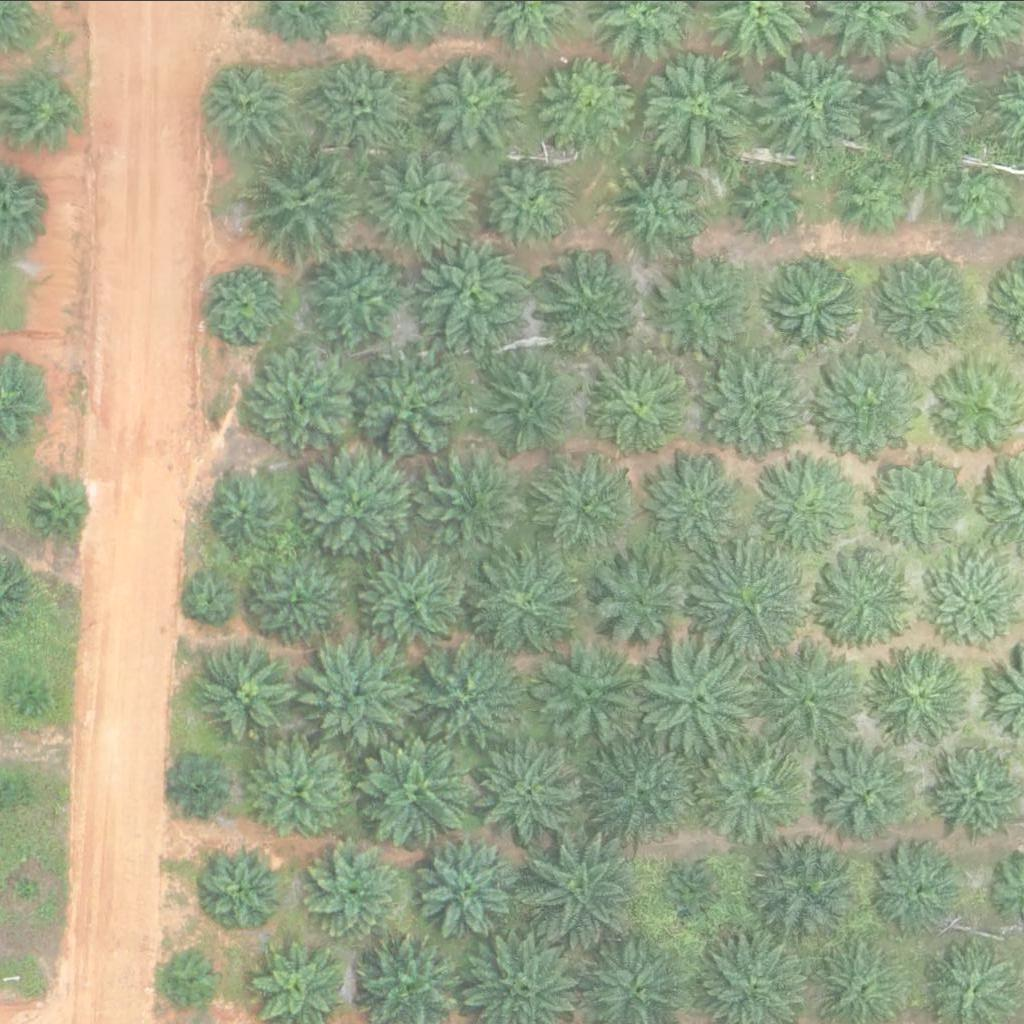Kelapa_Sawit: (522, 824, 648, 949), (353, 723, 479, 848), (582, 727, 708, 852), (402, 640, 528, 765), (633, 630, 759, 755), (464, 535, 590, 660), (689, 540, 815, 665), (237, 335, 363, 460), (348, 347, 474, 472), (695, 342, 821, 467), (412, 227, 538, 352), (238, 136, 364, 261), (361, 140, 487, 265), (637, 38, 763, 163), (750, 38, 876, 163), (747, 634, 873, 759), (356, 539, 481, 664), (748, 828, 862, 941), (302, 638, 415, 751), (534, 637, 647, 750), (590, 542, 703, 655), (644, 443, 757, 556), (867, 48, 980, 161), (819, 351, 932, 464), (752, 455, 865, 568), (697, 731, 811, 843), (414, 828, 527, 940), (471, 737, 584, 849), (305, 450, 418, 562), (417, 449, 530, 561), (307, 844, 408, 944), (248, 740, 349, 840), (196, 640, 297, 740), (250, 551, 351, 651), (484, 352, 585, 452), (585, 351, 686, 451), (540, 244, 641, 344), (645, 256, 746, 356), (608, 153, 709, 253), (762, 260, 863, 360), (874, 258, 975, 358), (872, 453, 973, 553), (816, 552, 917, 652), (309, 246, 409, 346), (201, 56, 301, 156), (317, 52, 417, 152), (424, 52, 524, 152), (541, 50, 641, 150), (874, 647, 974, 747), (818, 747, 918, 847), (873, 839, 973, 939), (201, 842, 289, 930), (540, 461, 628, 549), (491, 157, 579, 244), (206, 264, 282, 339), (941, 159, 1016, 234), (837, 160, 912, 235), (209, 473, 284, 548), (734, 167, 809, 242), (33, 478, 96, 541), (668, 856, 731, 919), (171, 755, 234, 818), (164, 946, 227, 1008), (188, 573, 238, 623), (9, 673, 47, 711), (16, 875, 41, 900)
